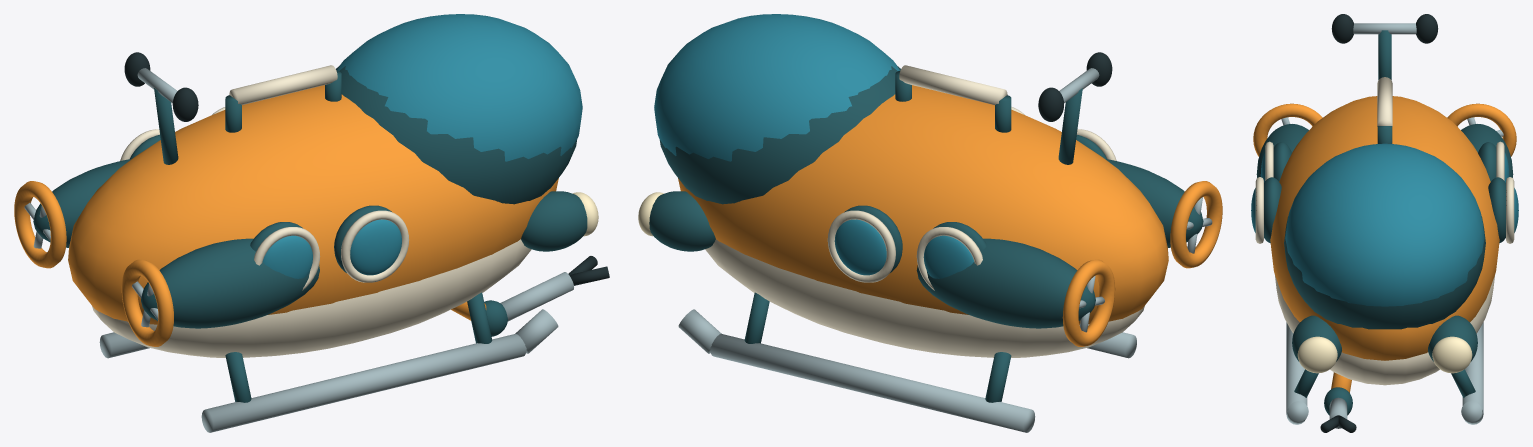
Rendered from echo-sub.glb.
3 views of the same model, side by side, from view 1: azimuth 30°, elevation 25°; view 2: azimuth 150°, elevation 25°; view 3: azimuth 270°, elevation 25° (orthographic). The views are drawn at different scales.
Visible parts, largest first — view 1: Pressure hull, Panoramic canopy, Lower fairing, Jet pod, Canopy bezel, Landing skid, Lamp housing, Pump jet shroud.001, Pump jet shroud, Jet pod.001, Port lens.001, Lift handle (+15 smaller); view 2: Pressure hull, Panoramic canopy, Lower fairing, Jet pod.001, Canopy bezel, Landing skid.001, Lamp housing.001, Pump jet shroud, Pump jet shroud.001, Jet pod, Port lens.003, Lift handle (+13 smaller); view 3: Panoramic canopy, Pressure hull, Canopy bezel, Lower fairing, Pump jet shroud, Pump jet shroud.001, Lamp lens, Lamp lens.001, Lamp housing, Lamp housing.001, Landing skid, Landing skid.001 (+23 smaller).
Part boxes in pixels (left/top/right/bottom): Pressure hull: left=68, top=85, right=558, bottom=324; Panoramic canopy: left=337, top=14, right=582, bottom=161; Lower fairing: left=92, top=239, right=531, bottom=357; Jet pod: left=141, top=238, right=319, bottom=328; Canopy bezel: left=336, top=66, right=577, bottom=204; Landing skid: left=201, top=334, right=526, bottom=432; Lamp housing: left=521, top=191, right=587, bottom=251; Pump jet shroud.001: left=14, top=181, right=66, bottom=268; Pump jet shroud: left=121, top=259, right=173, bottom=346; Jet pod.001: left=33, top=159, right=130, bottom=247; Port lens.001: left=350, top=219, right=401, bottom=275; Lift handle: left=229, top=65, right=337, bottom=104; Pressure hull: left=678, top=85, right=1168, bottom=324; Panoramic canopy: left=654, top=14, right=899, bottom=161; Lower fairing: left=705, top=239, right=1144, bottom=357; Jet pod.001: left=916, top=238, right=1095, bottom=328; Canopy bezel: left=659, top=66, right=900, bottom=204; Landing skid.001: left=710, top=334, right=1035, bottom=432; Lamp housing.001: left=649, top=191, right=715, bottom=251; Pump jet shroud: left=1170, top=181, right=1222, bottom=268; Pump jet shroud.001: left=1062, top=259, right=1115, bottom=346; Jet pod: left=1106, top=159, right=1203, bottom=247; Port lens.003: left=834, top=219, right=886, bottom=275; Lift handle: left=899, top=65, right=1007, bottom=104; Panoramic canopy: left=1285, top=143, right=1484, bottom=306; Pressure hull: left=1270, top=96, right=1499, bottom=360; Canopy bezel: left=1284, top=216, right=1485, bottom=329; Lower fairing: left=1275, top=275, right=1494, bottom=385; Pump jet shroud: left=1253, top=103, right=1322, bottom=156; Pump jet shroud.001: left=1447, top=103, right=1516, bottom=156; Lamp lens: left=1297, top=336, right=1337, bottom=373; Lamp lens.001: left=1432, top=336, right=1472, bottom=373; Lamp housing: left=1292, top=315, right=1341, bottom=361; Lamp housing.001: left=1428, top=315, right=1477, bottom=361; Landing skid: left=1286, top=322, right=1307, bottom=413; Landing skid.001: left=1462, top=322, right=1483, bottom=413.
Bounding box in the file's own units: 3.11 × 1.92 × 1.67.
